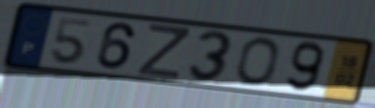3: (186, 29, 236, 84)
5: (47, 15, 94, 66)
6: (94, 21, 137, 72)
9: (283, 40, 328, 93)
O: (234, 36, 282, 89)
Z: (135, 22, 192, 81)
